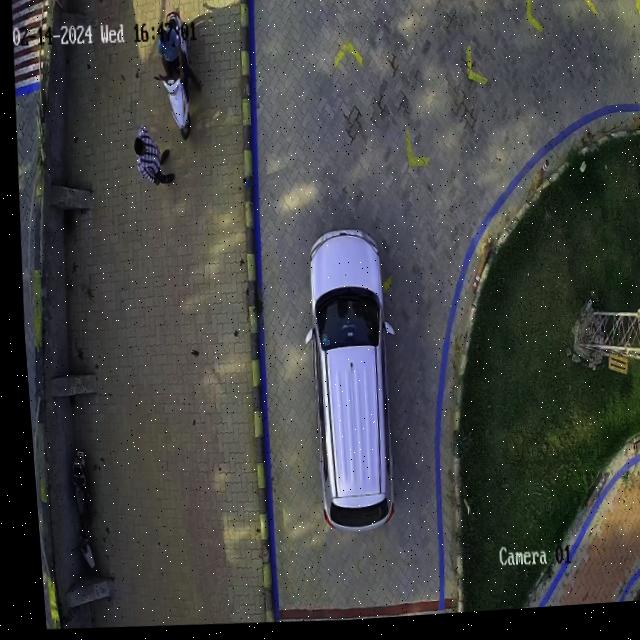car: (300, 234, 388, 533)
